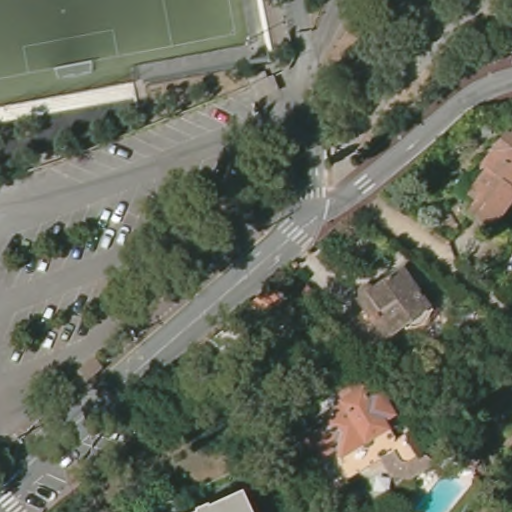pool: (417, 463, 472, 512)
